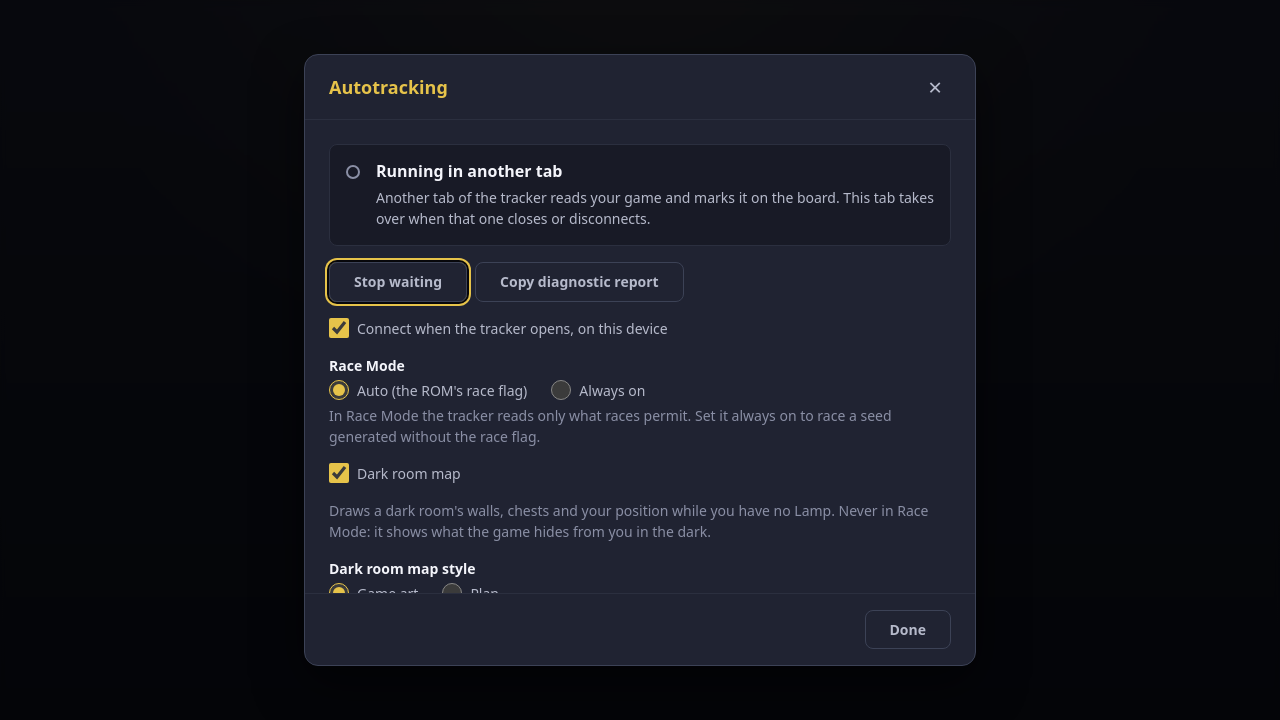
AutotrackDialog's actions › waits while another tab autotracks, until the player stops it
expect the text with test id "autotrack-headline" reads "Running in another tab": met, box left=376, top=160, right=562, bottom=182
expect the text "This tab takes over when that one closes" is shown: met, box left=376, top=188, right=934, bottom=228
Step 1. Click the button "Stop waiting" → (398, 282), box left=329, top=262, right=467, bottom=302
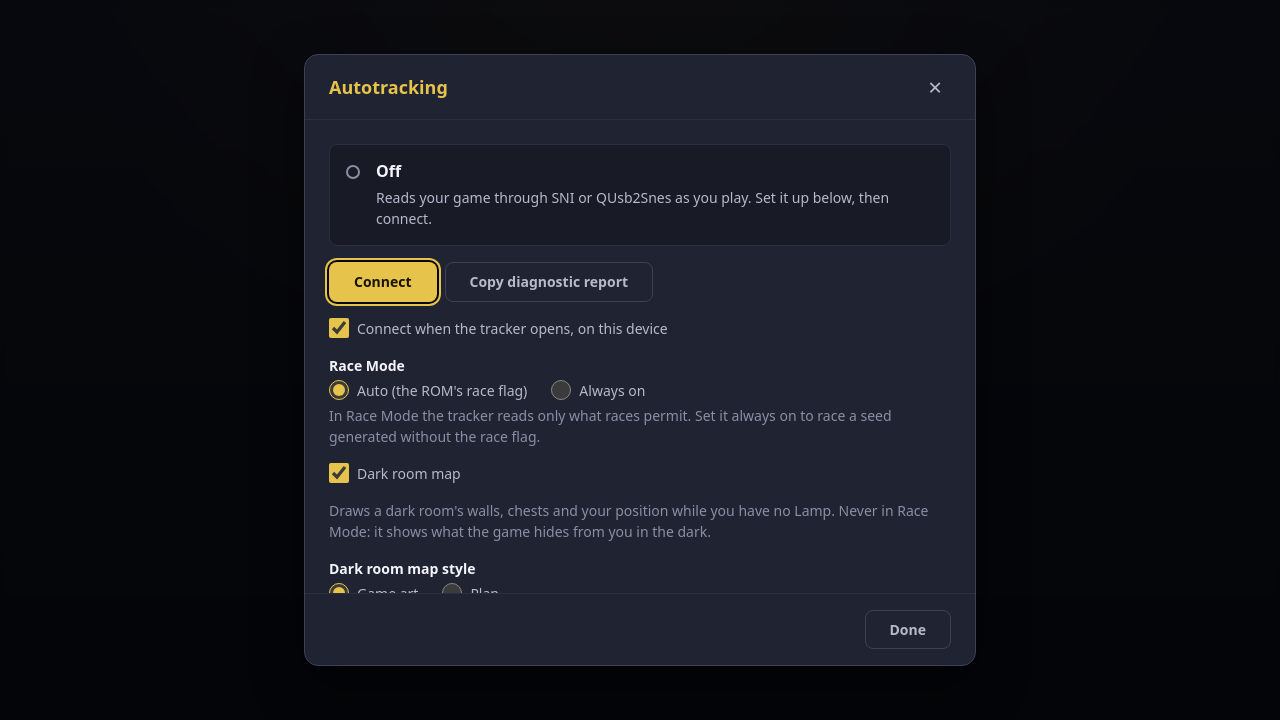
expect the text with test id "autotrack-headline" reads "Off": met, box left=376, top=160, right=401, bottom=182
